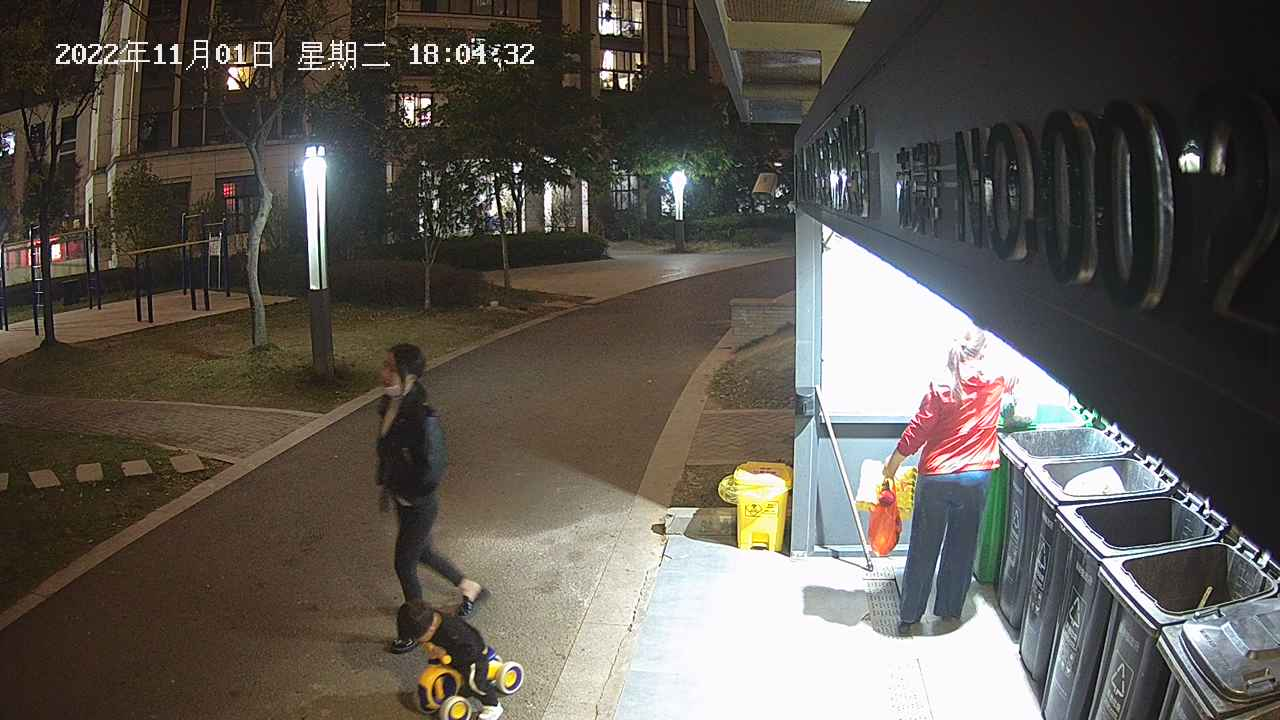garbage-bag: (866, 476, 903, 558)
person: (880, 326, 1036, 636), (372, 342, 492, 654), (395, 598, 506, 720)
zhizhipin: (853, 457, 918, 522)
